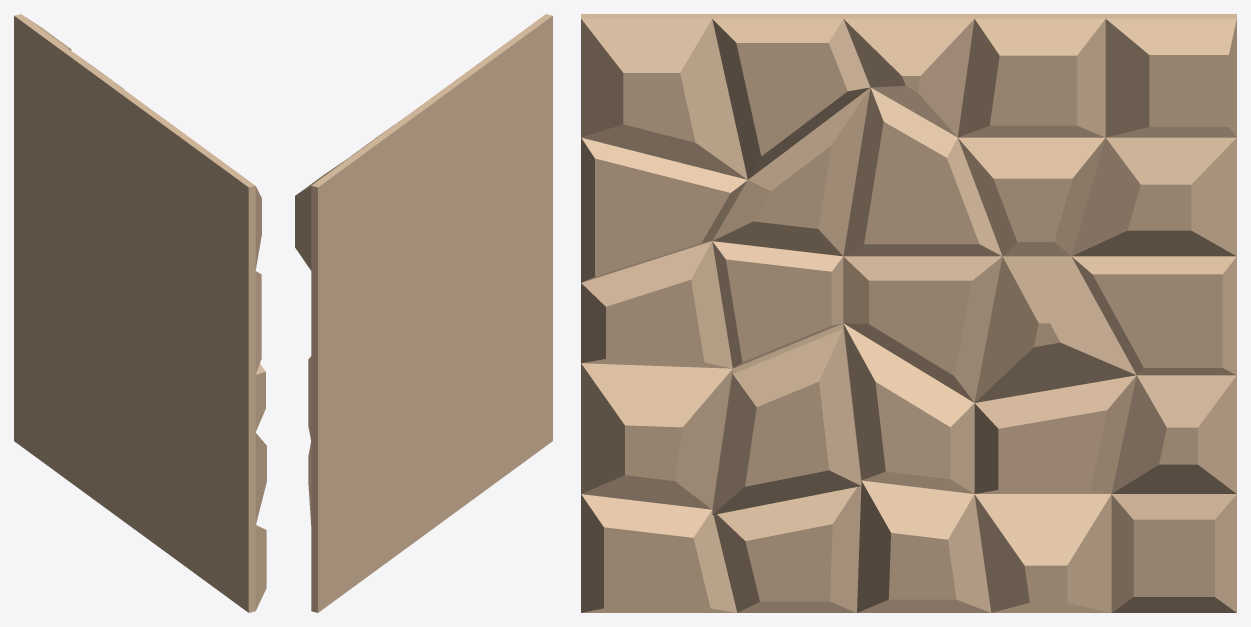
File: wall_rockey.glb
3 renders of one model, left to right at view 1: azimuth 30°, elevation 25°; view 2: azimuth 150°, elevation 25°; view 3: azimuth 270°, elevation 25°, orthographic. The views are drawn at different scales.
Visible parts, largest first — view 1: Cube; view 2: Cube; view 3: Cube.
Part boxes in pixels (x1=…): Cube: x1=14, y1=14, x2=266, y2=612; Cube: x1=295, y1=14, x2=552, y2=612; Cube: x1=581, y1=14, x2=1236, y2=612.
Bounding box in the file's own units: 0.9216 × 7.23 × 7.23.
